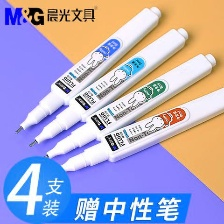correction_fluid: (10, 3, 164, 136), (36, 50, 217, 161), (26, 25, 189, 148), (49, 80, 224, 174)
